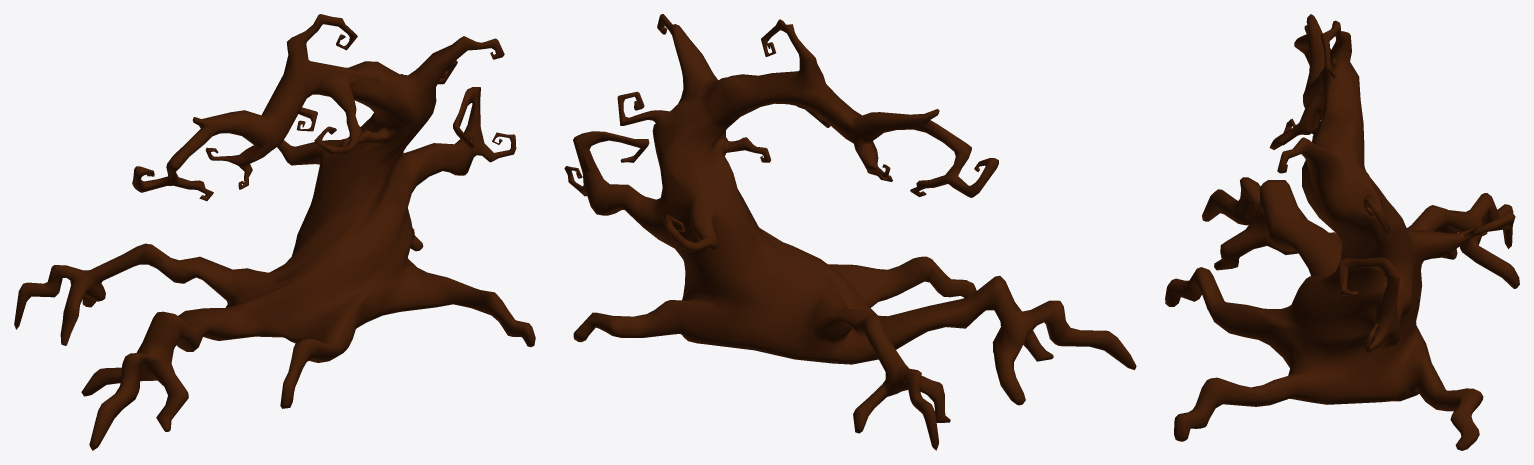
Rendered from Tree_4k.fbx.
3 views of the same model, side by side, from view 1: azimuth 30°, elevation 25°; view 2: azimuth 150°, elevation 25°; view 3: azimuth 270°, elevation 25° (orthographic). The views are drawn at different scales.
Parts seen in each view (by area): view 1: Tree 4k; view 2: Tree 4k; view 3: Tree 4k.
Part boxes in pixels (x1=…): Tree 4k: x1=14, y1=14, x2=535, y2=450; Tree 4k: x1=564, y1=14, x2=1136, y2=450; Tree 4k: x1=1165, y1=14, x2=1519, y2=450.
Bounding box in the file's own units: 1121 × 701 × 627.
